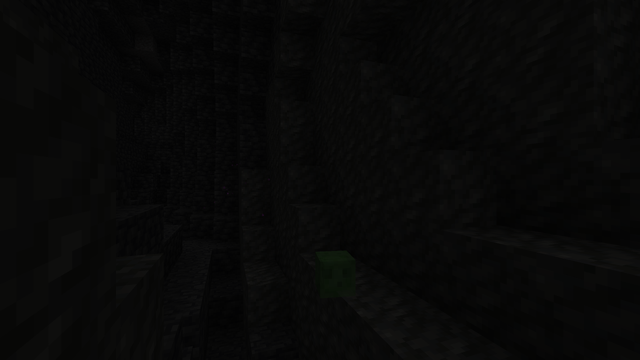slimes: (312, 248, 358, 299)
